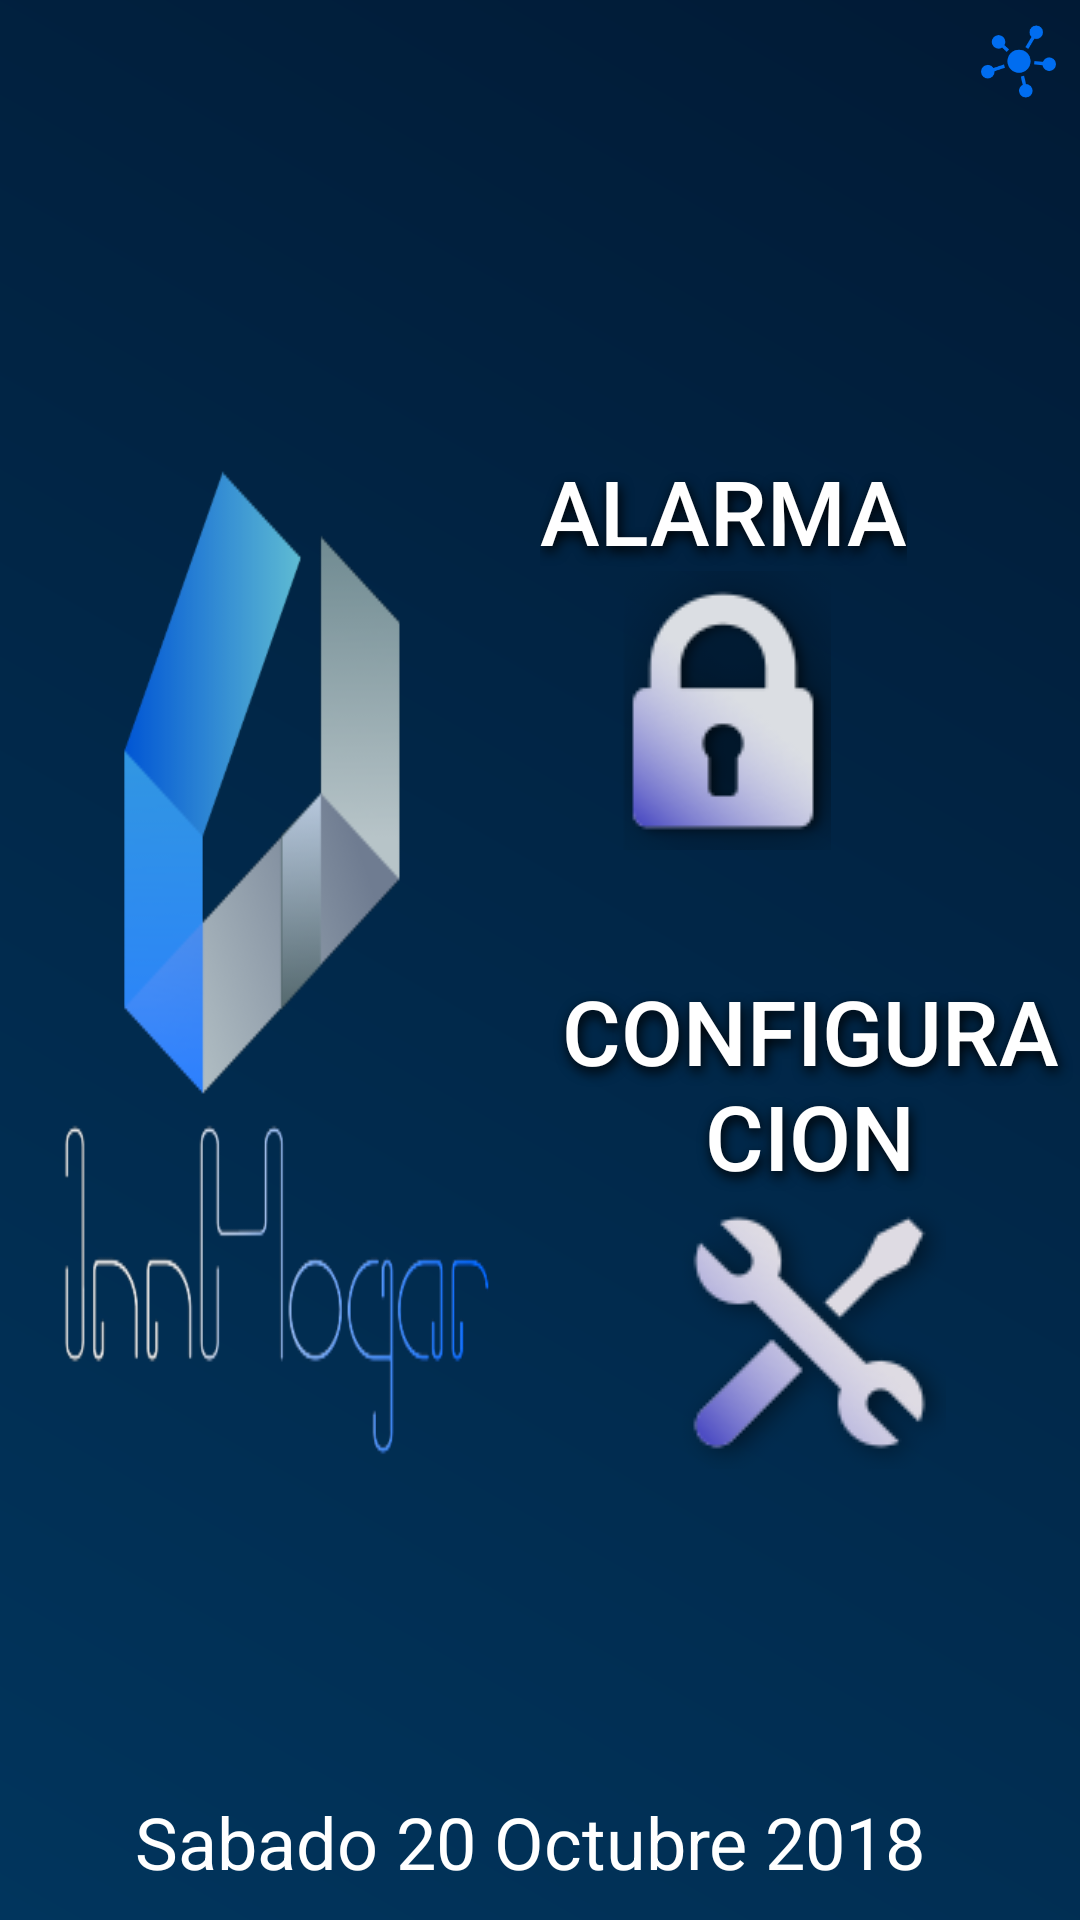

Screen size 1080 x 1920. Icon name, then its box in pixels as (x1, y1, x2, y2):
conexioncorrecta: (981, 25, 1056, 98)
